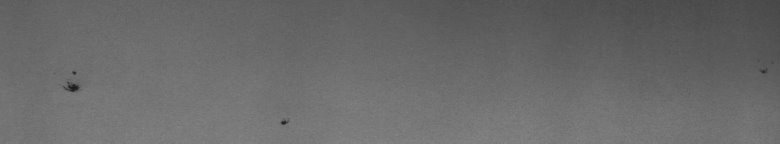fi: (59, 68, 84, 100)
